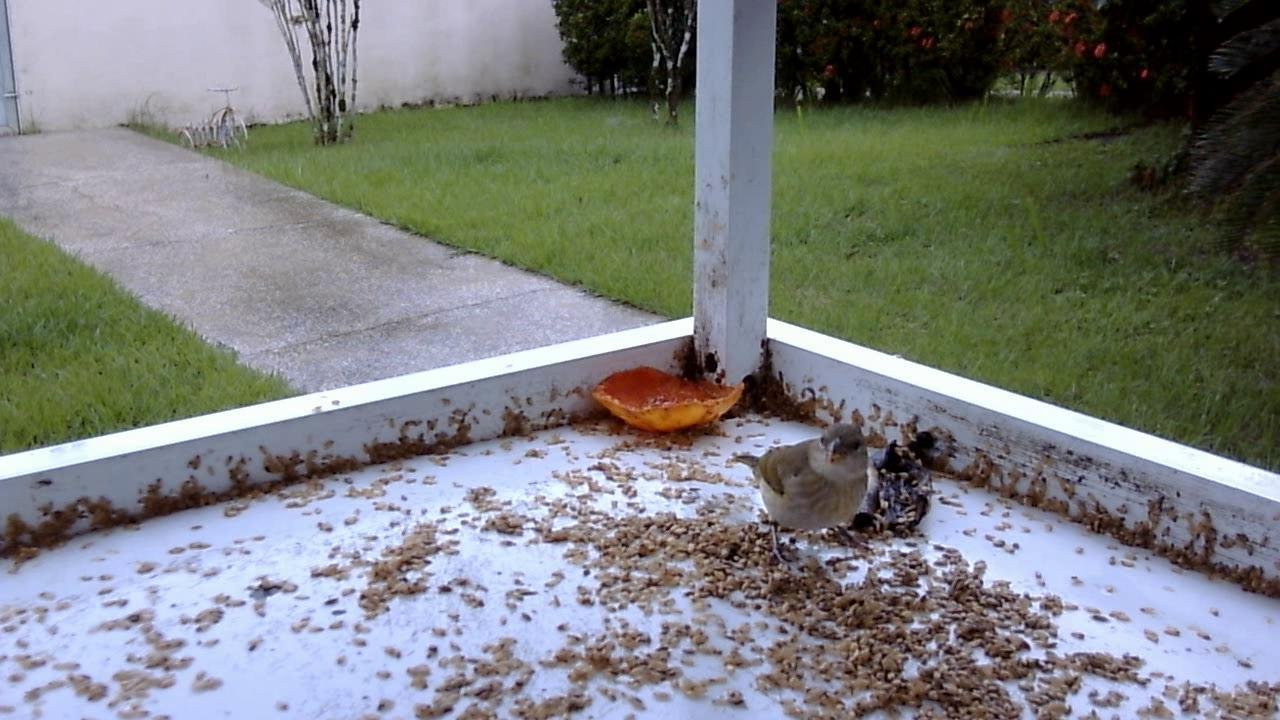canario_do_amazonas: (742, 420, 881, 560)
